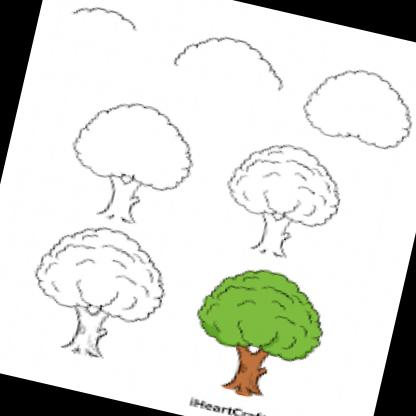branch_cut: (230, 340, 274, 364)
crown_cloud: (187, 257, 336, 370)
trunk_straight: (229, 358, 271, 386)
